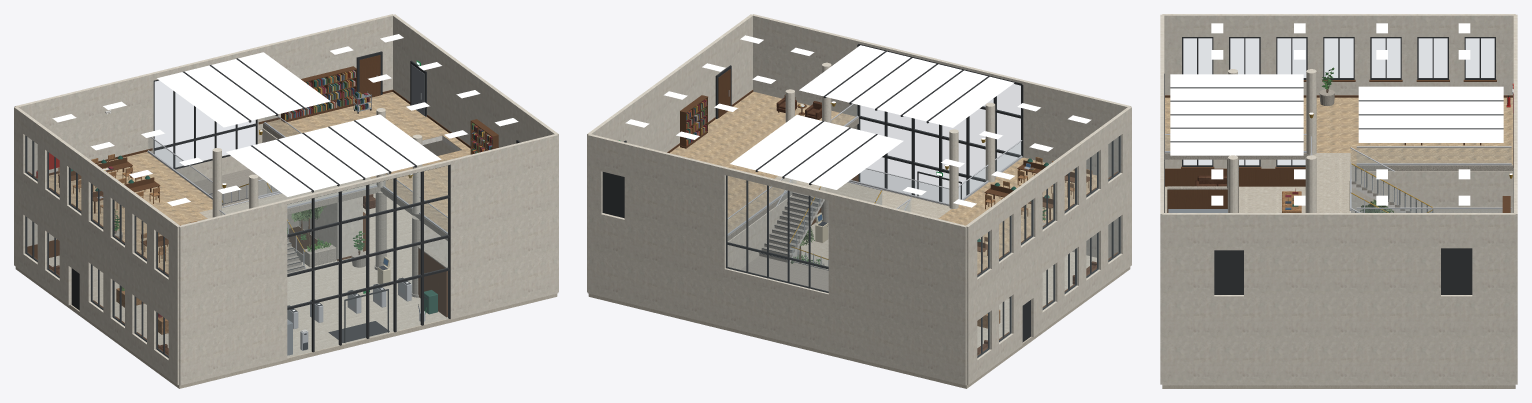
Rendered from library_interior.glb.
The picture shows the model from 3 angles, left to right: view 1: azimuth 30°, elevation 25°; view 2: azimuth 150°, elevation 25°; view 3: azimuth 270°, elevation 25°; orthographic projection. The views are drawn at different scales.
Parts seen in each view (by area): view 1: L0_WALL_wall+0+0-1_lb_plaster_hupdownEW, L1_WALL_wall+0+0-1_lb_plaster_hupdownEW, L1_lb_glass, L1_lb_skylight, L0_lb_glass, L1_WALL_wall+0+0+1_lb_plaster_hupdownEW, L0_floor, L0_WALL_wall+1+0+0_lb_plaster_hupdownNS, L1_WALL_wall+1+0+0_lb_plaster_hupdownNS, L1_lb_parquet_lm1.3_hsidedown, L1_WALL_wall-1+0+0_lb_plaster_hupdownNS, L0_WALL_Sfacade_lb_frame (+24 smaller); view 2: L0_WALL_wall+0+0+1_lb_plaster_hupdownEW, L1_WALL_wall+0+0+1_lb_plaster_hupdownEW, L1_lb_skylight, L1_lb_glass, L1_WALL_wall+0+0-1_lb_plaster_hupdownEW, L0_WALL_wall+1+0+0_lb_plaster_hupdownNS, L0_lb_glass, L1_WALL_wall+1+0+0_lb_plaster_hupdownNS, L1_lb_parquet_lm1.3_hsidedown, L1_WALL_wall-1+0+0_lb_plaster_hupdownNS, L0_floor, L1_lb_plaster (+21 smaller); view 3: L0_WALL_wall-1+0+0_lb_plaster_hupdownNS, L1_WALL_wall-1+0+0_lb_plaster_hupdownNS, L1_lb_skylight, L1_WALL_wall+1+0+0_lb_plaster_hupdownNS, L1_lb_glass, L1_lb_parquet_lm1.3_hsidedown, L0_lb_plaster_hupN, L0_lb_walnut, L0_floor, L1_WALL_Edoor_lb_frame, L1_lb_plaster, L1_lb_frame (+15 smaller).
Part boxes in pixels (x1,y1,x2,y2): L0_WALL_wall+0+0-1_lb_plaster_hupdownEW: (179, 211, 558, 385); L1_WALL_wall+0+0-1_lb_plaster_hupdownEW: (179, 134, 558, 302); L1_lb_glass: (25, 81, 447, 276); L1_lb_skylight: (157, 52, 441, 196); L0_lb_glass: (25, 126, 447, 357); L1_WALL_wall+0+0+1_lb_plaster_hupdownEW: (14, 14, 393, 176); L0_floor: (15, 193, 557, 388); L0_WALL_wall+1+0+0_lb_plaster_hupdownNS: (14, 183, 179, 384); L1_WALL_wall+1+0+0_lb_plaster_hupdownNS: (14, 106, 179, 302); L1_lb_parquet_lm1.3_hsidedown: (49, 92, 470, 273); L1_WALL_wall-1+0+0_lb_plaster_hupdownNS: (393, 14, 558, 209); L0_WALL_Sfacade_lb_frame: (287, 235, 450, 352); L0_WALL_wall+0+0+1_lb_plaster_hupdownEW: (587, 211, 966, 385); L1_WALL_wall+0+0+1_lb_plaster_hupdownEW: (587, 134, 966, 302); L1_lb_skylight: (730, 45, 1014, 189); L1_lb_glass: (726, 84, 1120, 276); L1_WALL_wall+0+0-1_lb_plaster_hupdownEW: (752, 14, 1131, 177); L0_WALL_wall+1+0+0_lb_plaster_hupdownNS: (966, 183, 1131, 384); L0_lb_glass: (726, 119, 1120, 357); L1_WALL_wall+1+0+0_lb_plaster_hupdownNS: (966, 106, 1131, 302); L1_lb_parquet_lm1.3_hsidedown: (669, 91, 1096, 273); L1_WALL_wall-1+0+0_lb_plaster_hupdownNS: (587, 14, 752, 209); L0_floor: (588, 222, 1130, 388); L1_lb_plaster: (785, 40, 1023, 208); L0_WALL_wall-1+0+0_lb_plaster_hupdownNS: (1162, 295, 1515, 385); L1_WALL_wall-1+0+0_lb_plaster_hupdownNS: (1162, 213, 1515, 296); L1_lb_skylight: (1170, 74, 1503, 155); L1_WALL_wall+1+0+0_lb_plaster_hupdownNS: (1162, 14, 1515, 95); L1_lb_glass: (1165, 39, 1510, 212); L1_lb_parquet_lm1.3_hsidedown: (1165, 97, 1512, 164); L0_lb_plaster_hupN: (1351, 171, 1513, 212); L0_lb_walnut: (1165, 168, 1305, 212); L0_floor: (1162, 186, 1515, 388); L1_WALL_Edoor_lb_frame: (1214, 248, 1472, 294); L1_lb_plaster: (1160, 69, 1316, 212); L1_lb_frame: (1170, 87, 1503, 142).
Bounding box in the file's own units: 24.2 × 9.85 × 18.2.
Materials: 31 (13 with a texture image).
